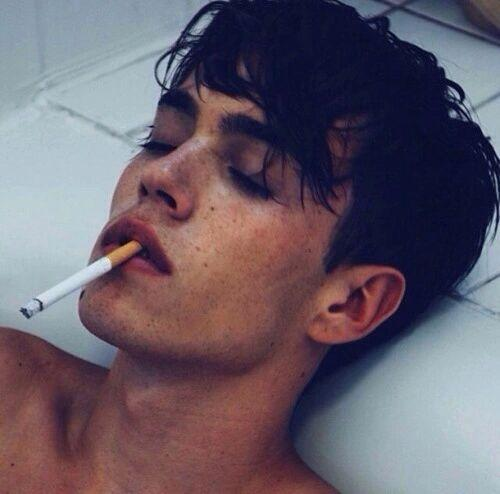cigarette: (19, 240, 144, 319)
